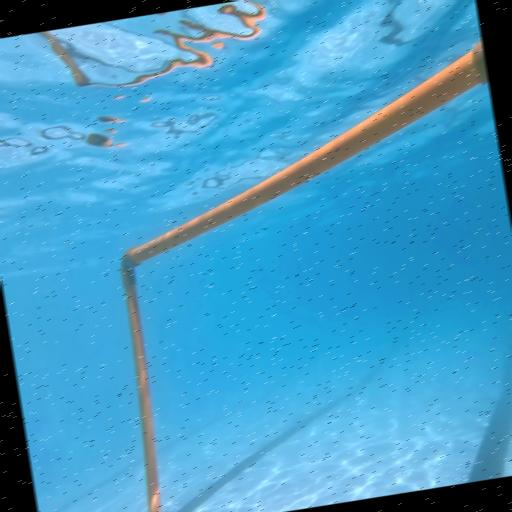gate: (77, 32, 512, 512)
